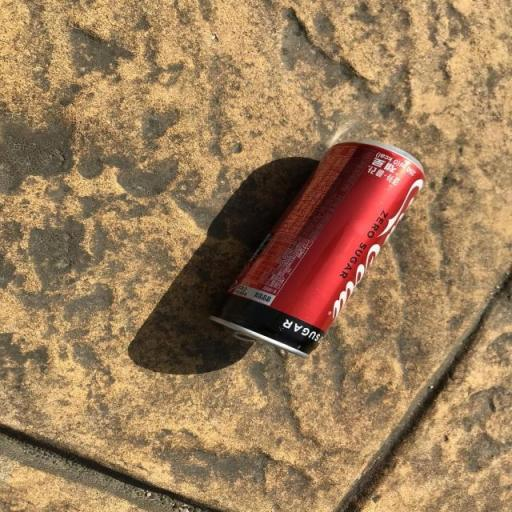metal: (174, 120, 444, 375)
